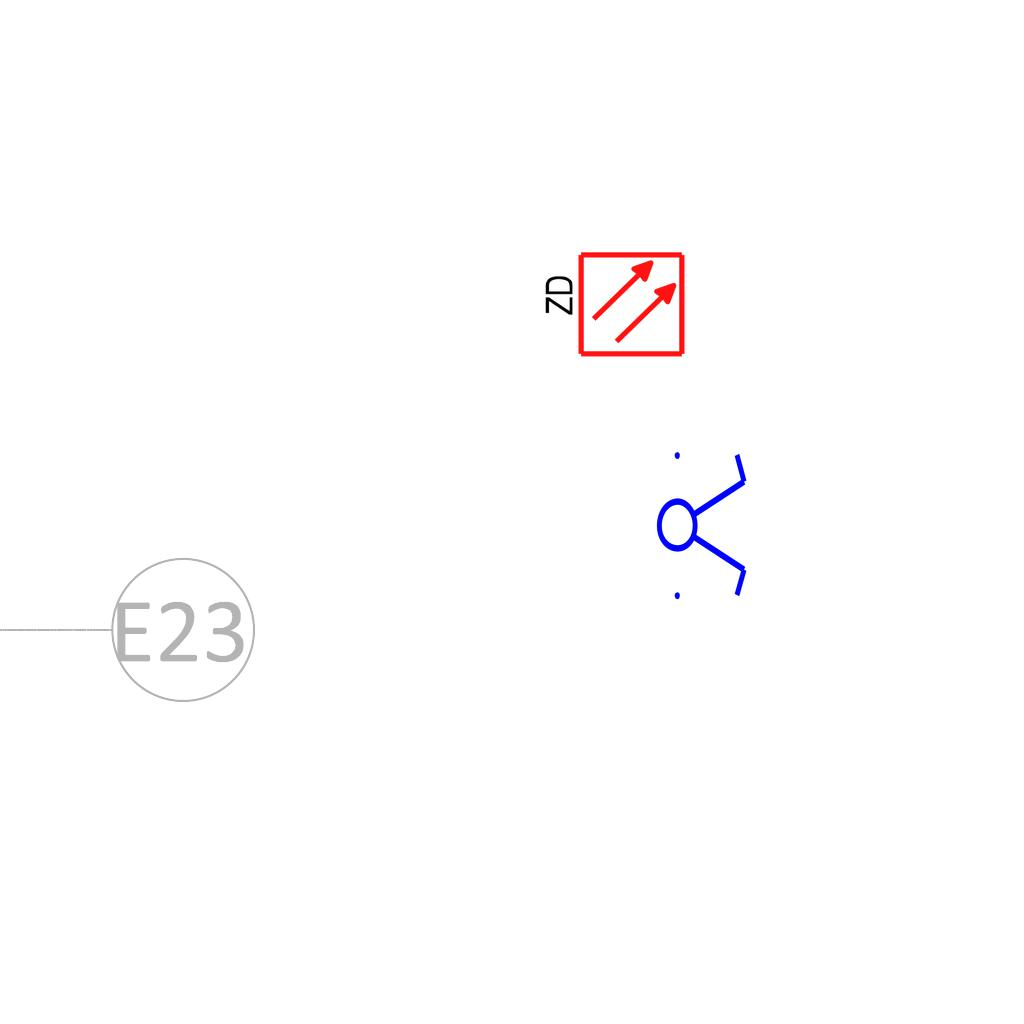Serienschalter: (655, 440, 751, 608)
ZD_Melder_in_Zwischendecke_mit_Revisionsoeffnung_mind_40_x_40_cm: (538, 249, 687, 363)
